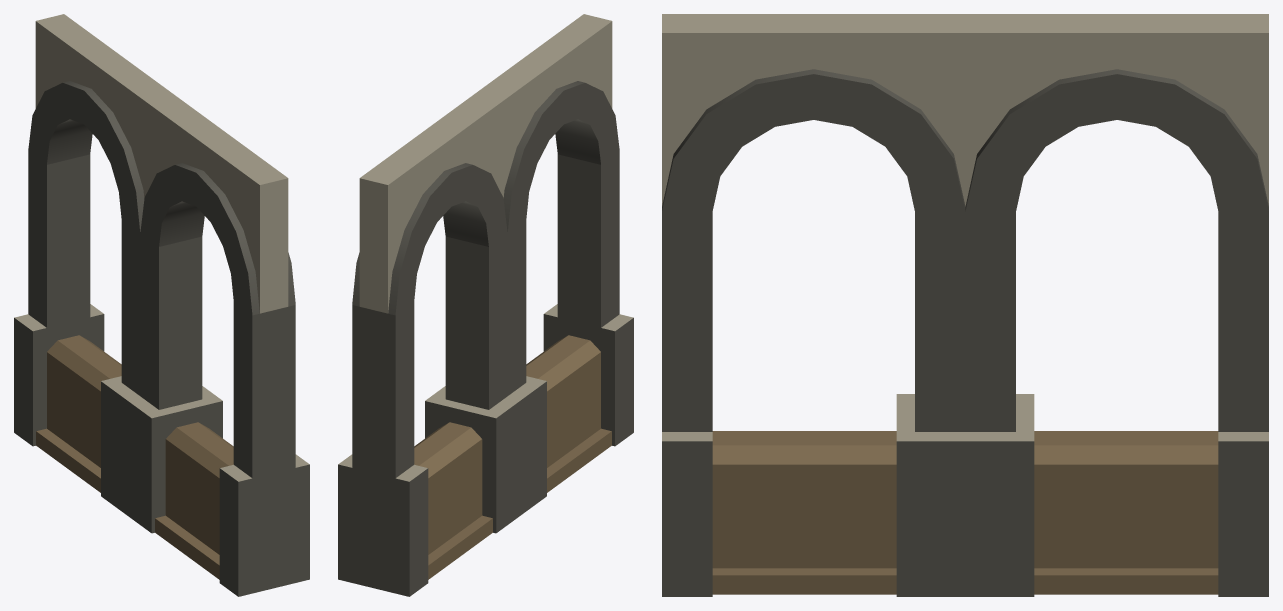
Rendered from Wall.fbx.
3 renders of one model, left to right at view 1: azimuth 30°, elevation 25°; view 2: azimuth 150°, elevation 25°; view 3: azimuth 270°, elevation 25°, orthographic. The views are drawn at different scales.
Visible parts, largest first — view 1: polySurface11; view 2: polySurface11; view 3: polySurface11.
Part boxes in pixels (x1,y1,x2,y2): polySurface11: [14, 14, 309, 596]; polySurface11: [338, 14, 633, 596]; polySurface11: [662, 14, 1268, 596].
Size of the model in its own units: 0.011 by 0.06 by 0.06.
